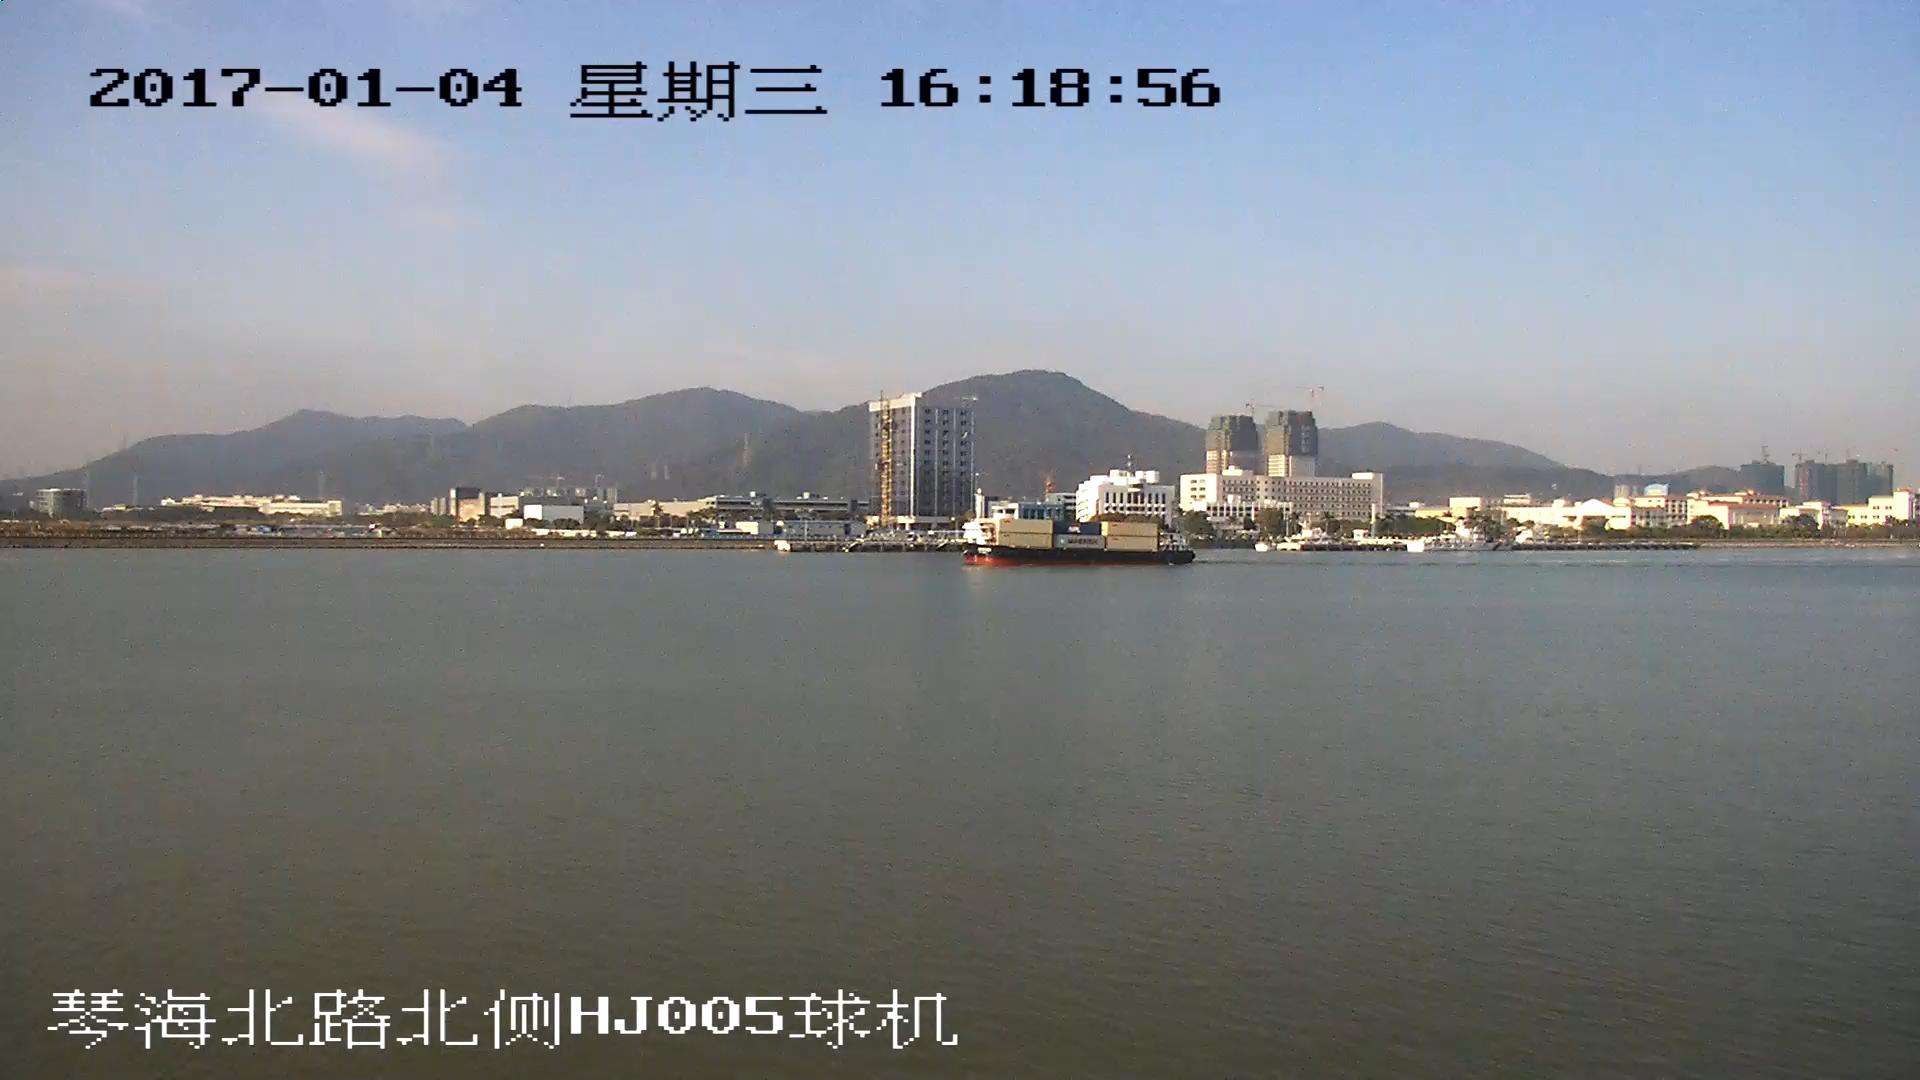Ship: (964, 518, 1201, 568)
